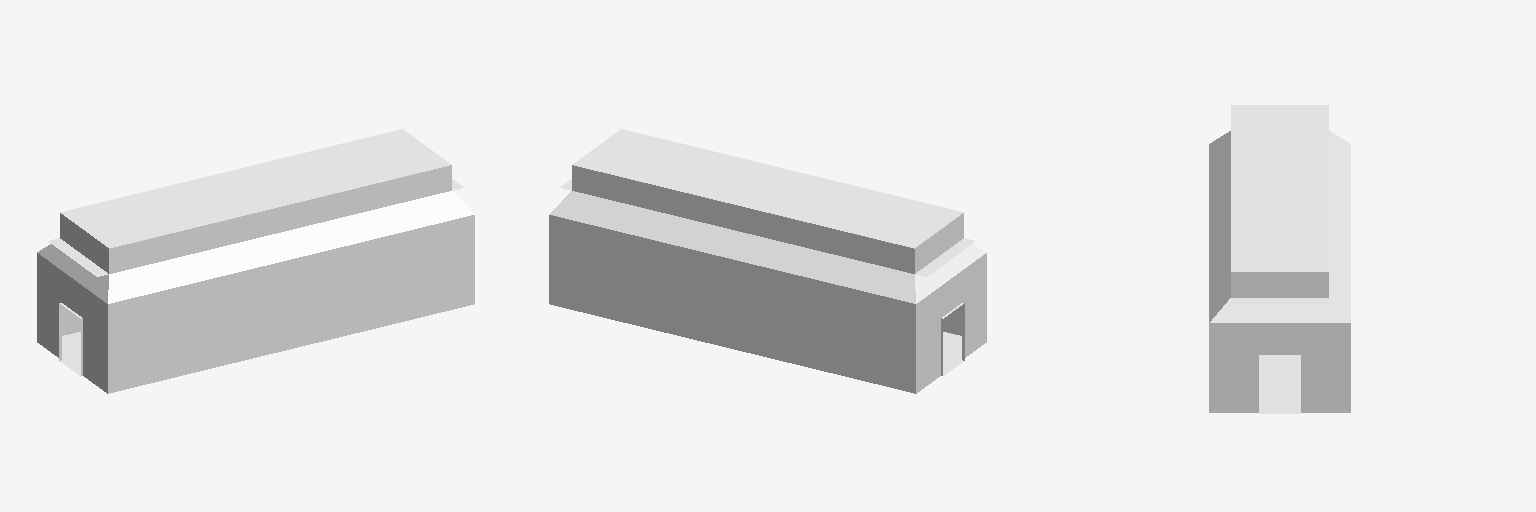
The model's file is Hallway-01.obj.
3 renders of one model, left to right at view 1: azimuth 30°, elevation 25°; view 2: azimuth 150°, elevation 25°; view 3: azimuth 270°, elevation 25°, orthographic.
Visible parts, largest first — view 1: Hallway-01; view 2: Hallway-01; view 3: Hallway-01.
Boxes of the visible parts, box(x1,y1,x2,y2) form: Hallway-01: box(37, 129, 474, 393); Hallway-01: box(549, 129, 986, 393); Hallway-01: box(1209, 105, 1350, 413).
Size of the model in its own units: 15.2 by 5.25 by 5.